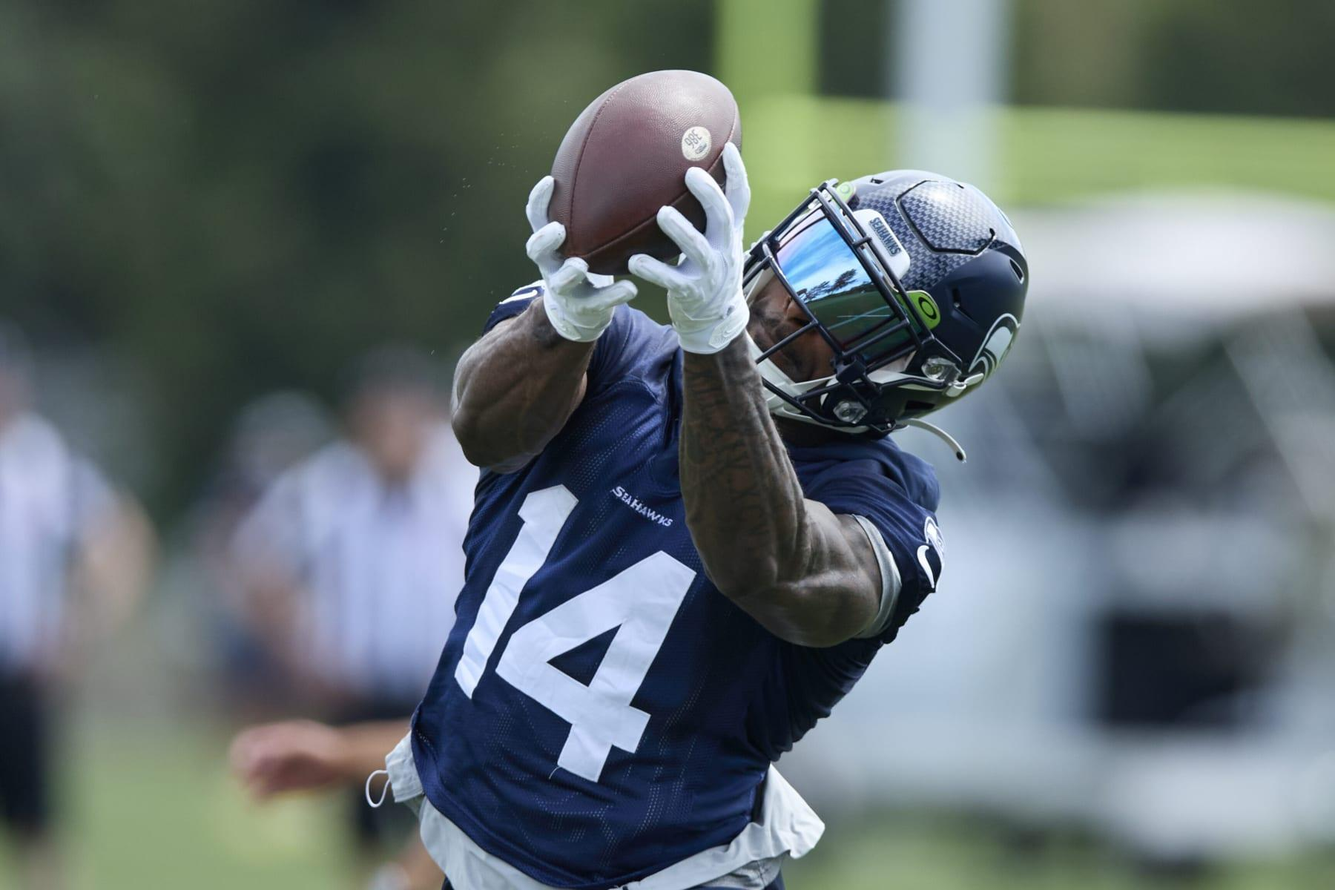americanFootball: (546, 69, 735, 263)
